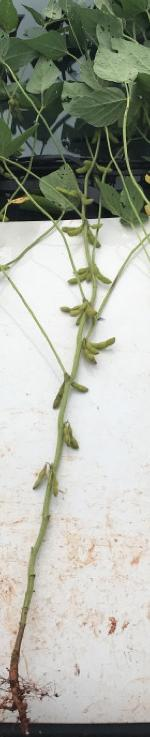soja: (50, 378, 70, 416), (93, 261, 115, 292), (46, 471, 68, 501), (66, 423, 85, 452), (34, 465, 52, 495), (84, 337, 120, 351), (63, 270, 91, 287), (75, 349, 99, 368), (57, 187, 81, 206), (55, 298, 85, 313), (87, 228, 106, 249), (66, 261, 95, 274), (58, 423, 73, 447), (106, 127, 120, 152), (80, 340, 99, 358), (66, 379, 92, 392), (95, 161, 117, 176), (68, 304, 85, 322), (69, 223, 89, 238), (13, 97, 24, 124), (61, 223, 83, 236), (85, 303, 100, 322), (80, 194, 98, 209), (74, 167, 93, 176), (84, 156, 94, 169)
